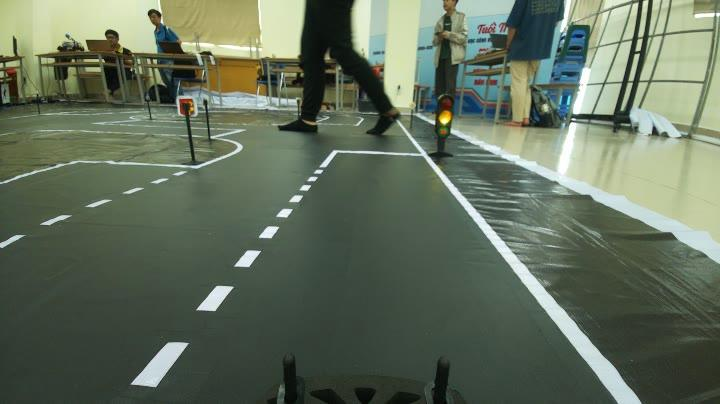trafficlight: (421, 88, 462, 164)
